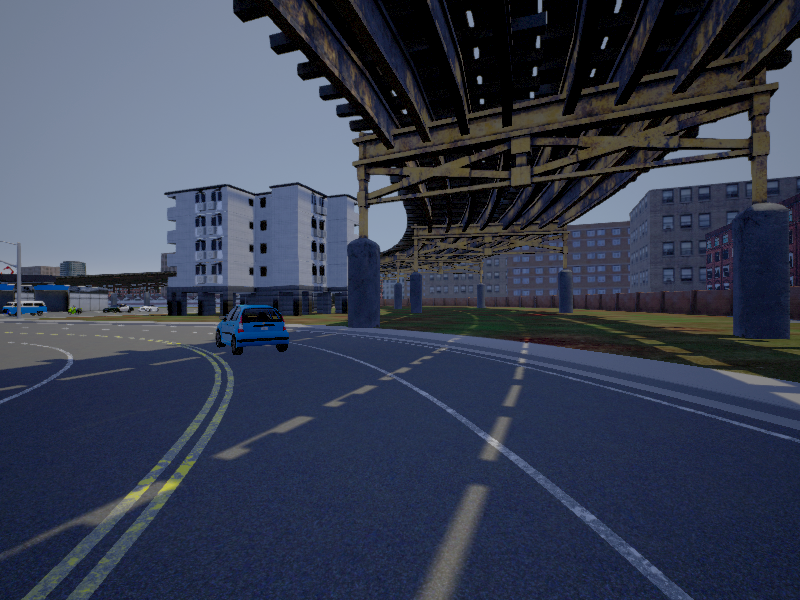Benign: (213, 305, 289, 354), (4, 299, 48, 318), (105, 303, 132, 314)
